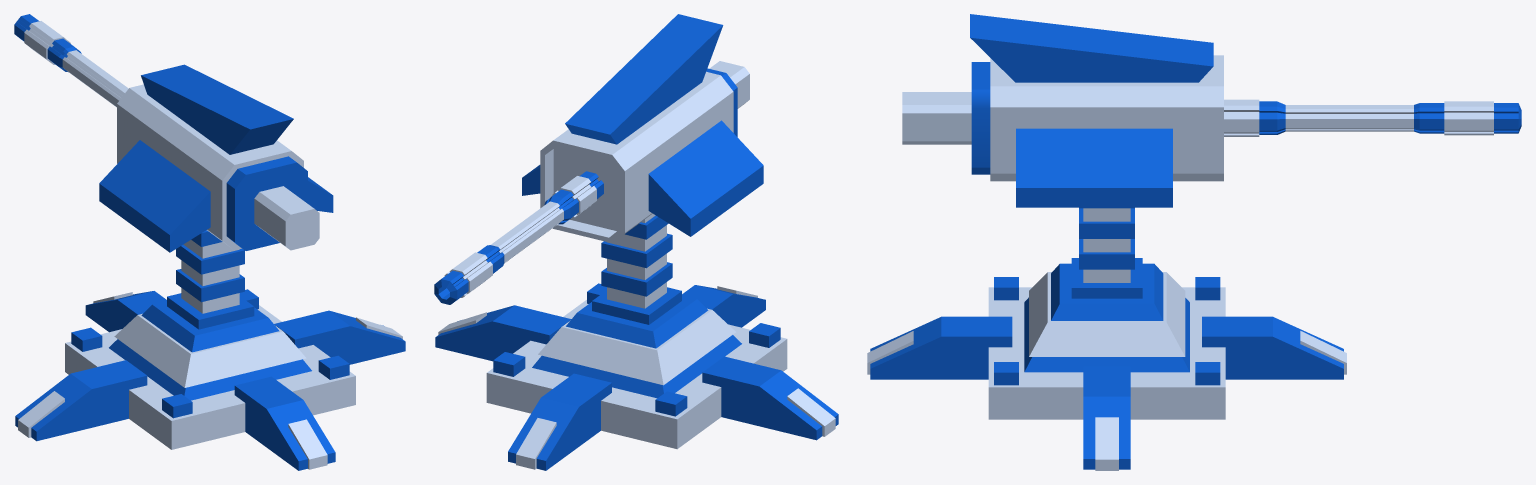
File: Turret_3_B.fbx
3 views of the same model, side by side, from view 1: azimuth 30°, elevation 25°; view 2: azimuth 150°, elevation 25°; view 3: azimuth 270°, elevation 25° (orthographic). The views are drawn at different scales.
Visible parts, largest first — view 1: TurretBase3B, TurretHead3B, TurretBarrel3B; view 2: TurretBase3B, TurretHead3B, TurretBarrel3B; view 3: TurretBase3B, TurretHead3B, TurretBarrel3B.
Boxes of the visible parts, x1=… form: TurretBase3B: x1=15, y1=230, x2=405, y2=470; TurretHead3B: x1=99, y1=64, x2=333, y2=252; TurretBarrel3B: x1=14, y1=14, x2=128, y2=107; TurretBase3B: x1=435, y1=213, x2=838, y2=470; TurretHead3B: x1=522, y1=14, x2=763, y2=242; TurretBarrel3B: x1=434, y1=171, x2=603, y2=304; TurretBase3B: x1=867, y1=207, x2=1346, y2=470; TurretHead3B: x1=902, y1=14, x2=1223, y2=207; TurretBarrel3B: x1=1224, y1=99, x2=1521, y2=136.
Size of the model in its own units: 40.54 by 32.04 by 55.3.
Materials: 1 (1 with a texture image).
